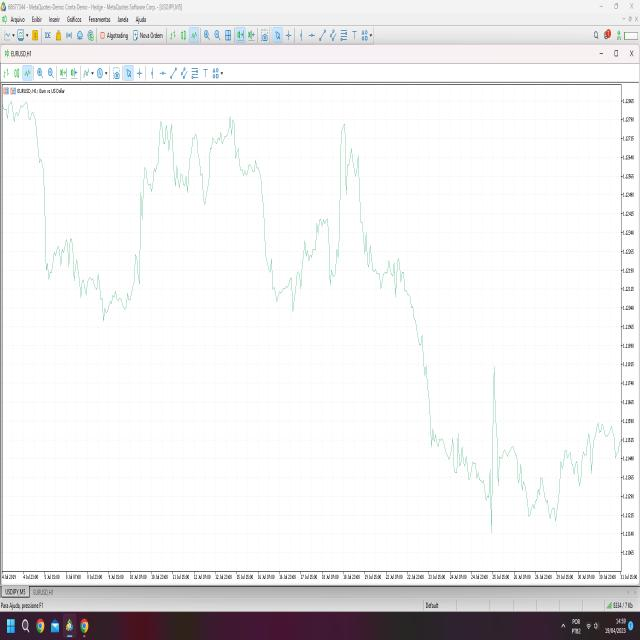bandeira_baixa: (27, 137, 80, 289), (227, 114, 256, 186)
fundo_duplo: (514, 462, 569, 534)
oco: (329, 114, 373, 202), (152, 113, 176, 154)
oco_inv: (168, 166, 192, 195)
